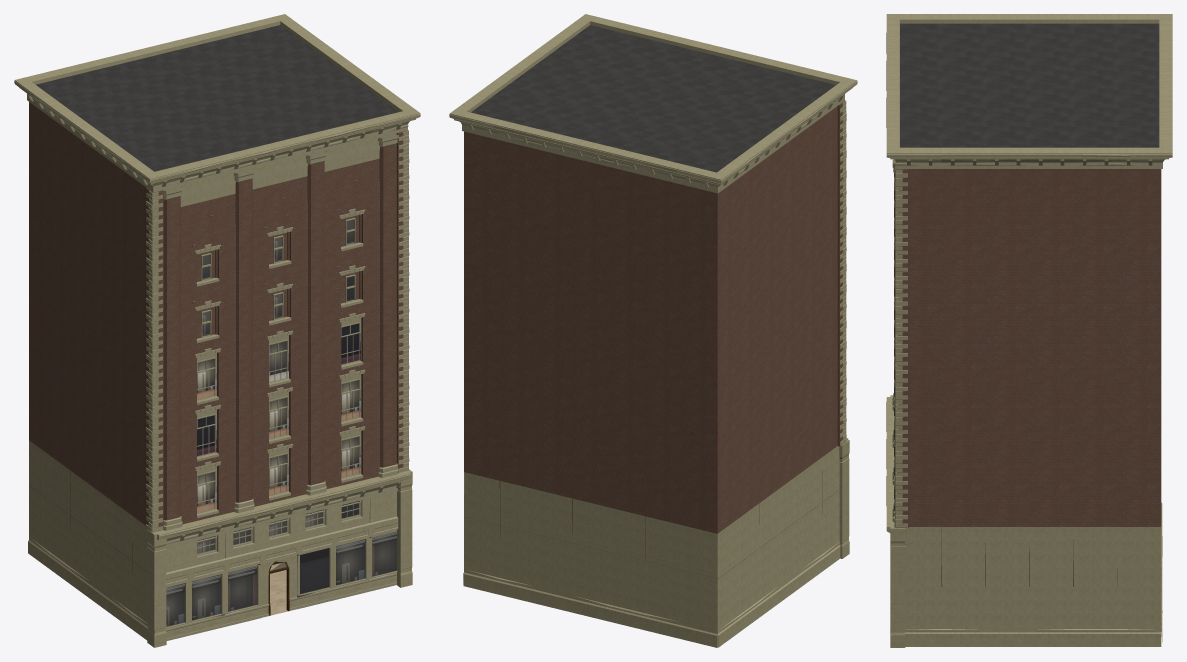
Rendered from Building_Medium_2_001.glb.
The picture shows the model from 3 angles, left to right: view 1: azimuth 30°, elevation 25°; view 2: azimuth 150°, elevation 25°; view 3: azimuth 270°, elevation 25°; orthographic projection. The views are drawn at different scales.
Visible parts, largest first — view 1: Building_Medium_2.001; view 2: Building_Medium_2.001; view 3: Building_Medium_2.001.
Boxes of the visible parts, x1=… form: Building_Medium_2.001: x1=14, y1=14, x2=420, y2=647; Building_Medium_2.001: x1=449, y1=14, x2=857, y2=647; Building_Medium_2.001: x1=886, y1=14, x2=1172, y2=647.
Size of the model in its own units: 15.06 by 25.01 by 13.04.
8 materials, 7 textured.
